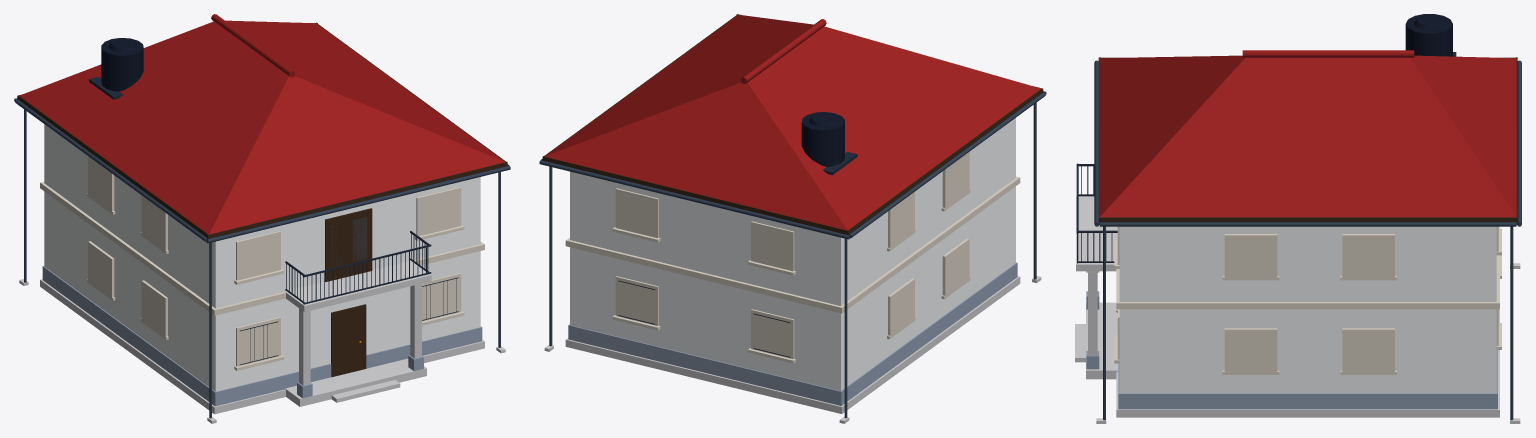
File: bld_maisonette_01.glb
3 renders of one model, left to right at view 1: azimuth 30°, elevation 25°; view 2: azimuth 150°, elevation 25°; view 3: azimuth 270°, elevation 25°, orthographic. The views are drawn at different scales.
Parts seen in each view (by area): view 1: Maisonette_HippedRoof, Geo_LOD0, Maisonette_GroundFloorWalls, Maisonette_FirstFloorWalls, Maisonette_LOD1_Body, Maisonette_BalconySlab, Maisonette_RooftopWaterTank, Maisonette_Window_upper_9, Maisonette_Window_ground_0, Maisonette_Window_upper_8, Maisonette_Window_ground_1, Maisonette_Window_ground_3 (+8 smaller); view 2: Maisonette_HippedRoof, Maisonette_LOD1_Body, Maisonette_GroundFloorWalls, Maisonette_FirstFloorWalls, Geo_LOD0, Maisonette_RooftopWaterTank, Maisonette_Window_ground_7, Maisonette_Window_upper_15, Maisonette_Window_upper_14, Maisonette_Window_ground_6, Maisonette_Window_ground_2, Maisonette_Window_ground_3 (+5 smaller); view 3: Maisonette_HippedRoof, Maisonette_LOD1_Body, Geo_LOD0, Maisonette_GroundFloorWalls, Maisonette_FirstFloorWalls, Maisonette_Window_ground_4, Maisonette_Window_upper_12, Maisonette_Window_ground_5, Maisonette_Window_upper_13, Maisonette_BalconySlab, Maisonette_RooftopWaterTank, Maisonette_PorchColumn_1 (+2 smaller).
Part boxes in pixels (<box>): Maisonette_HippedRoof: <box>19,20,505,234</box>; Geo_LOD0: <box>14,14,510,423</box>; Maisonette_GroundFloorWalls: <box>44,191,480,391</box>; Maisonette_FirstFloorWalls: <box>44,124,480,308</box>; Maisonette_LOD1_Body: <box>44,125,480,391</box>; Maisonette_BalconySlab: <box>284,260,431,311</box>; Maisonette_RooftopWaterTank: <box>89,38,143,99</box>; Maisonette_Window_upper_9: <box>414,187,464,240</box>; Maisonette_Window_ground_0: <box>234,317,283,370</box>; Maisonette_Window_upper_8: <box>234,231,283,284</box>; Maisonette_Window_ground_1: <box>422,273,464,325</box>; Maisonette_Window_ground_3: <box>87,241,115,300</box>; Maisonette_HippedRoof: <box>545,14,1040,230</box>; Maisonette_LOD1_Body: <box>570,119,1015,390</box>; Maisonette_GroundFloorWalls: <box>570,186,1015,390</box>; Maisonette_FirstFloorWalls: <box>570,118,1015,305</box>; Geo_LOD0: <box>539,14,1046,423</box>; Maisonette_RooftopWaterTank: <box>801,112,857,175</box>; Maisonette_Window_ground_7: <box>612,276,660,330</box>; Maisonette_Window_upper_15: <box>612,188,660,242</box>; Maisonette_Window_upper_14: <box>748,221,795,275</box>; Maisonette_Window_ground_6: <box>748,309,795,363</box>; Maisonette_Window_ground_2: <box>941,238,970,299</box>; Maisonette_Window_ground_3: <box>887,278,915,339</box>; Maisonette_HippedRoof: <box>1099,55,1516,217</box>; Maisonette_LOD1_Body: <box>1119,226,1496,393</box>; Geo_LOD0: <box>1075,50,1521,423</box>; Maisonette_GroundFloorWalls: <box>1119,309,1496,393</box>; Maisonette_FirstFloorWalls: <box>1119,226,1496,301</box>; Maisonette_Window_ground_4: <box>1222,328,1279,374</box>; Maisonette_Window_upper_12: <box>1222,234,1279,280</box>; Maisonette_Window_ground_5: <box>1340,328,1396,374</box>; Maisonette_Window_upper_13: <box>1340,234,1396,280</box>; Maisonette_BalconySlab: <box>1076,196,1117,271</box>; Maisonette_RooftopWaterTank: <box>1405,14,1456,56</box>; Maisonette_PorchColumn_1: <box>1088,272,1097,355</box>.
Size of what is drawn, in the model's own units: 11.5 by 9.67 by 13.27.
